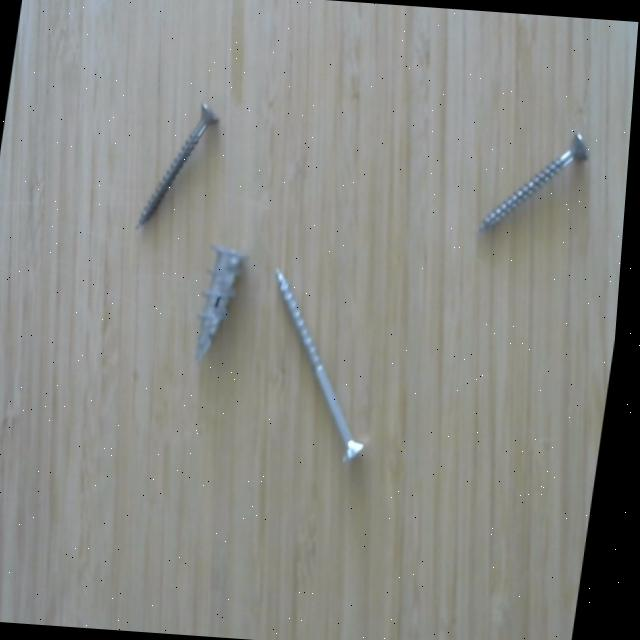Black screw: (481, 120, 597, 242), (139, 91, 228, 242)
Long screw: (248, 256, 399, 470)
Short screw: (192, 233, 257, 368)
